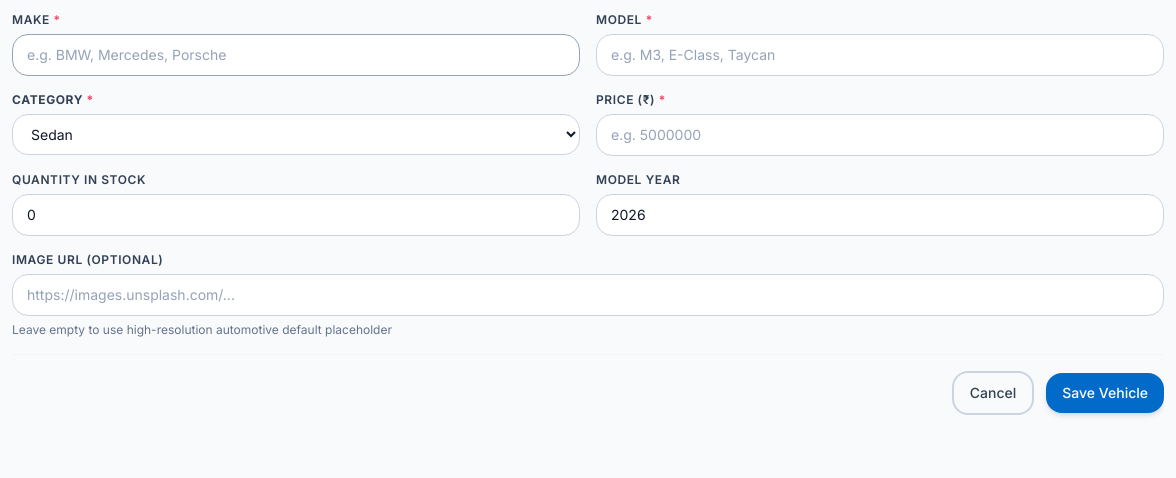
Test: VehicleForm Component › should validate required fields when submitting empty form in create mode
Click the button "Save Vehicle": (1105, 393) [1046,373,1164,413]
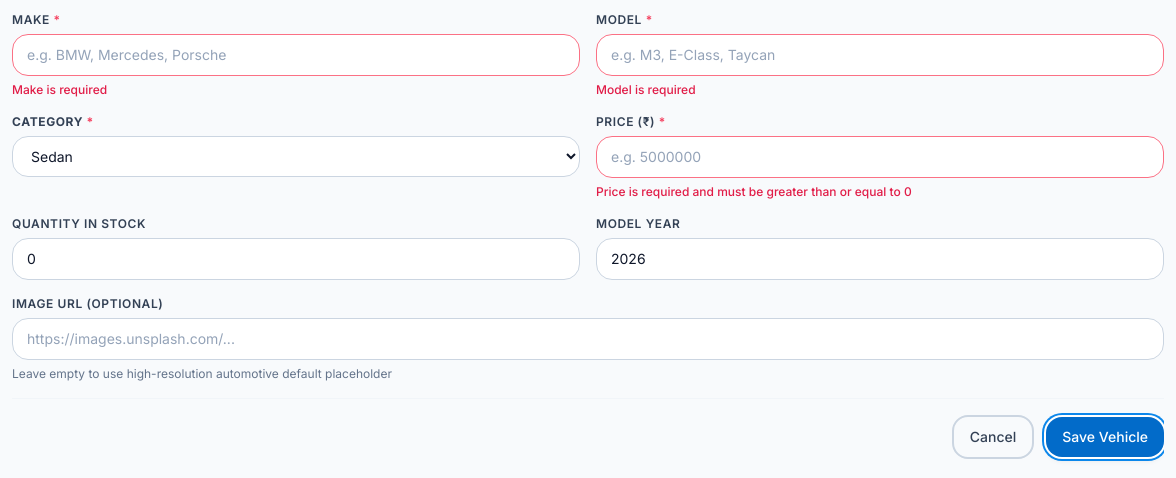
Expected: the text "Make is required" is shown, [12,82,107,97]
Expected: the text "Model is required" is shown, [596,82,696,97]
Expected: the text "Price is required and must be greater than or equal to 0" is shown, [596,184,912,199]
